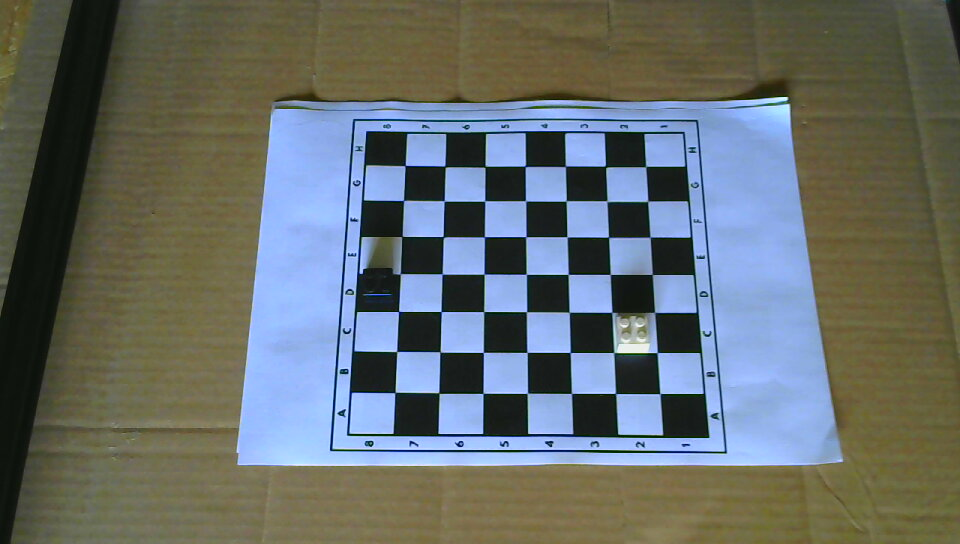bp: (361, 265, 395, 307)
wp: (615, 310, 652, 355)
